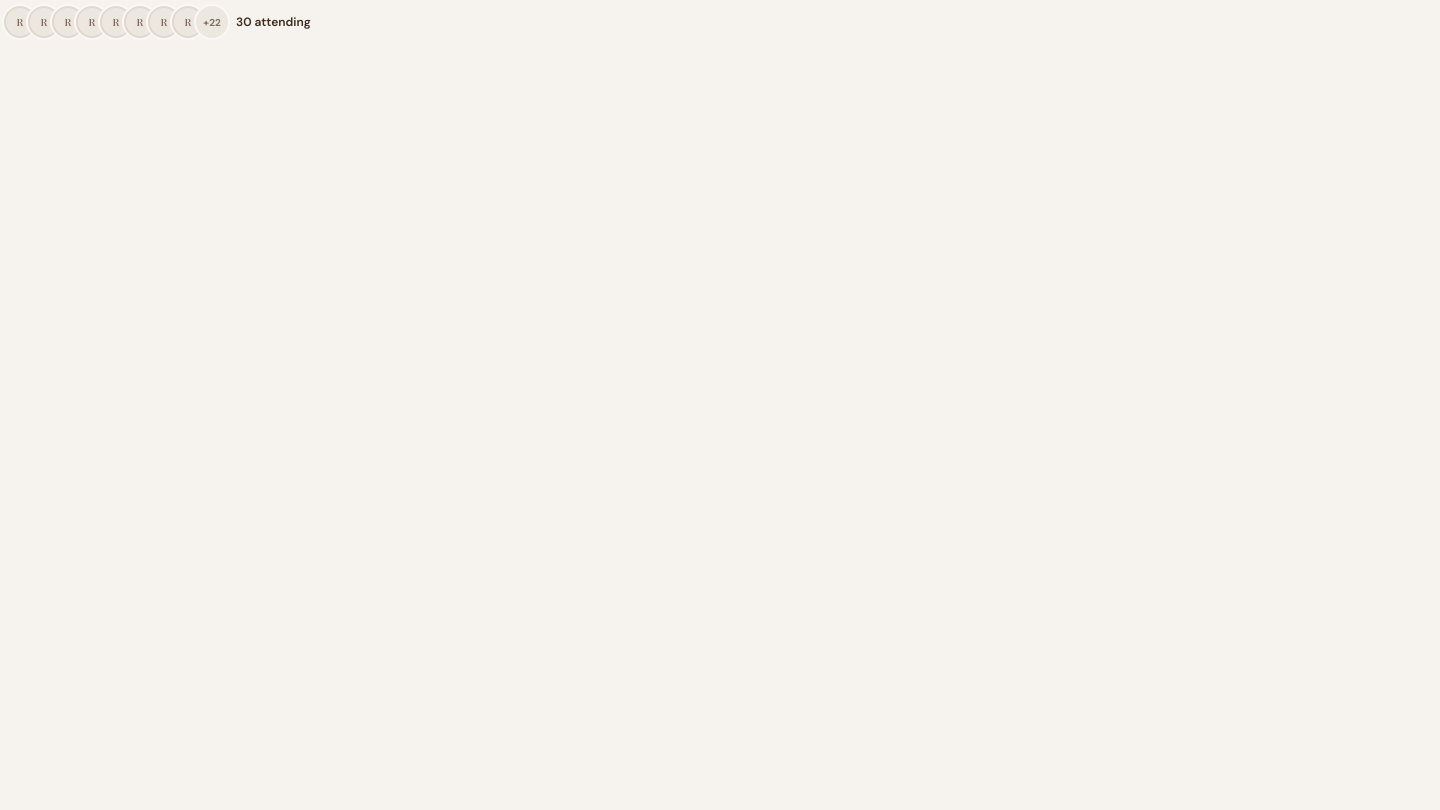
it: AttendeeFacePile › filters attendees by search query
Click the button with aria-label "view 30 attending" at (161, 22), box x1=0 y1=0 x2=323 y2=44
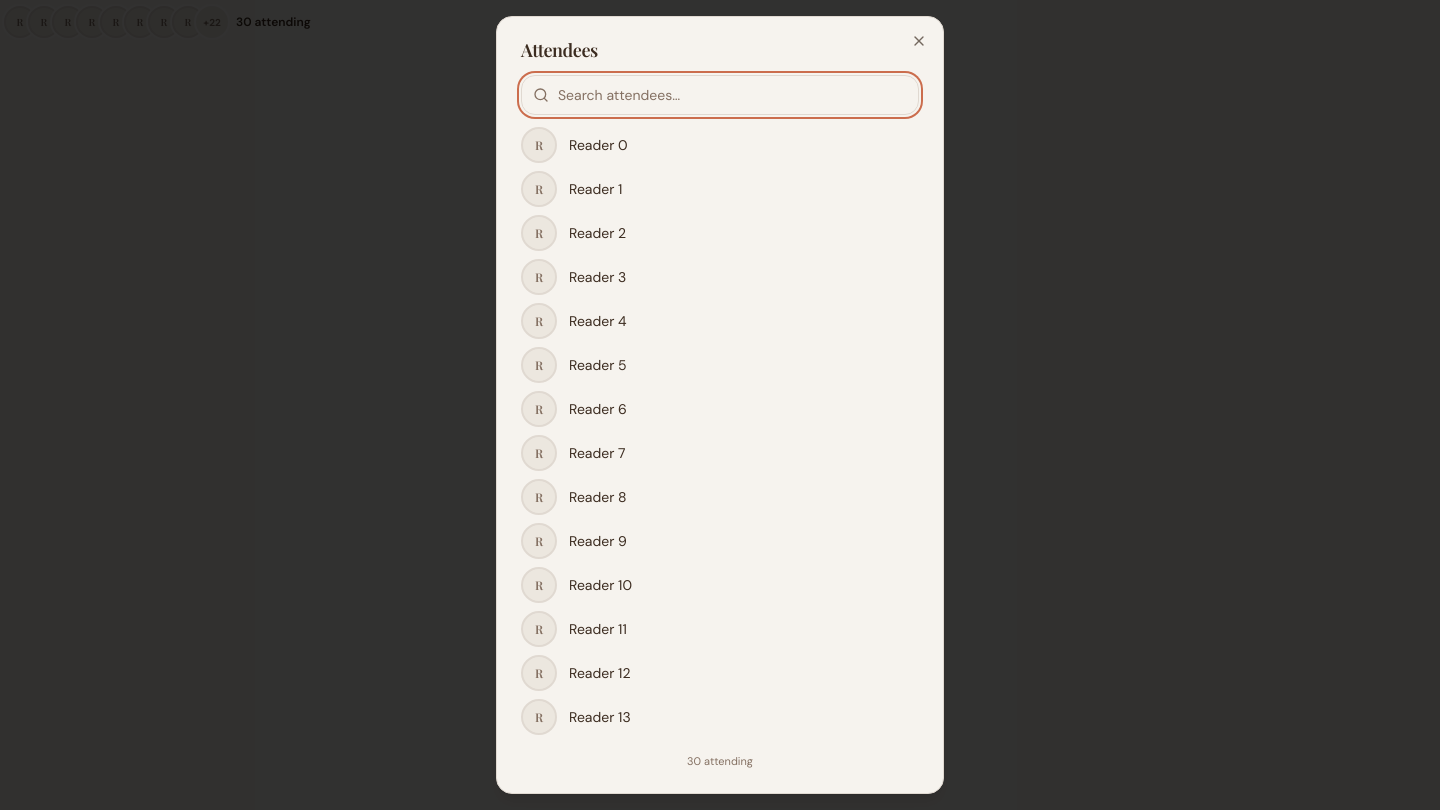
Type "Reader 12" into the field labelled "Search attendees…" at (720, 95), box x1=521 y1=75 x2=919 y2=115
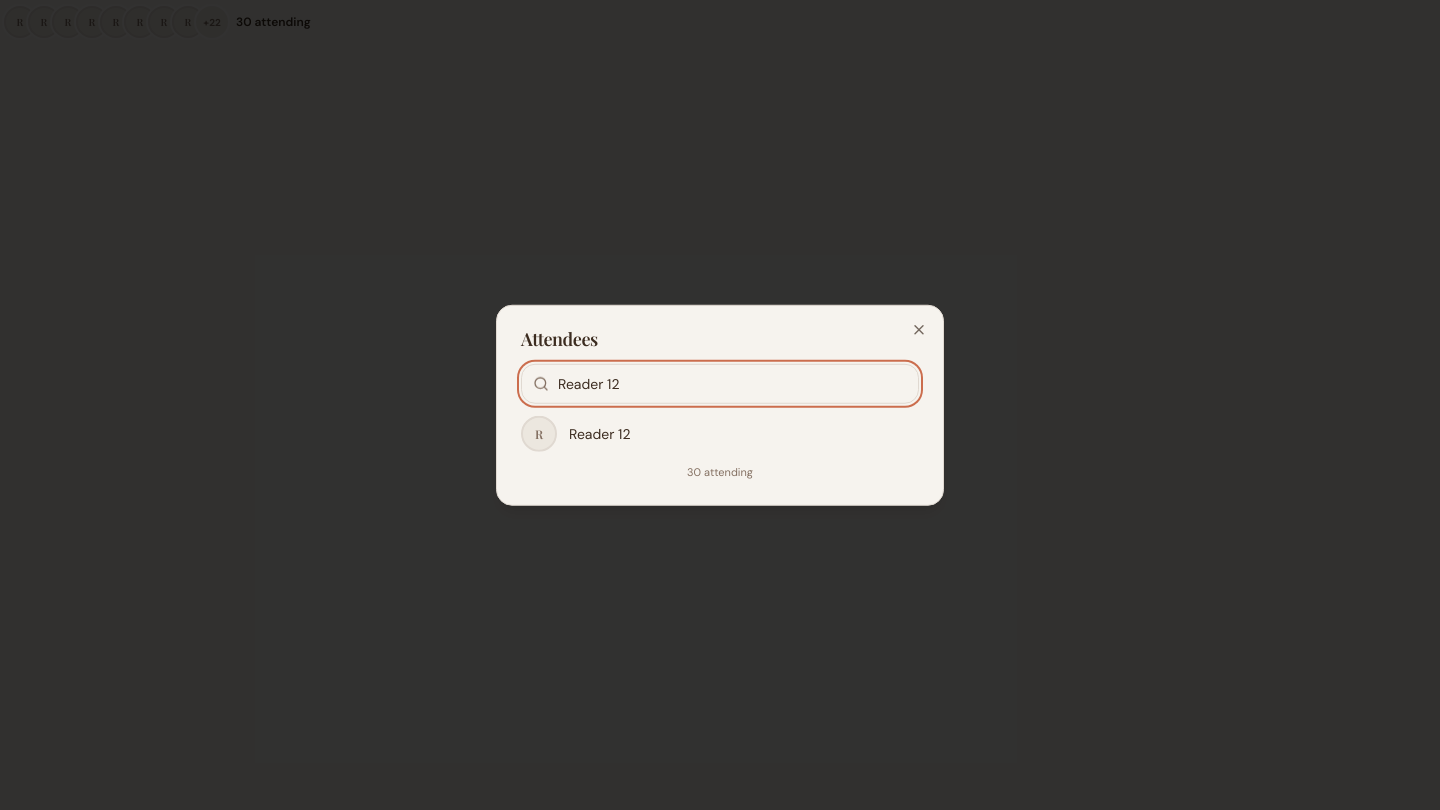
expect the number of list items is 1: met, box x1=521 y1=416 x2=630 y2=452
